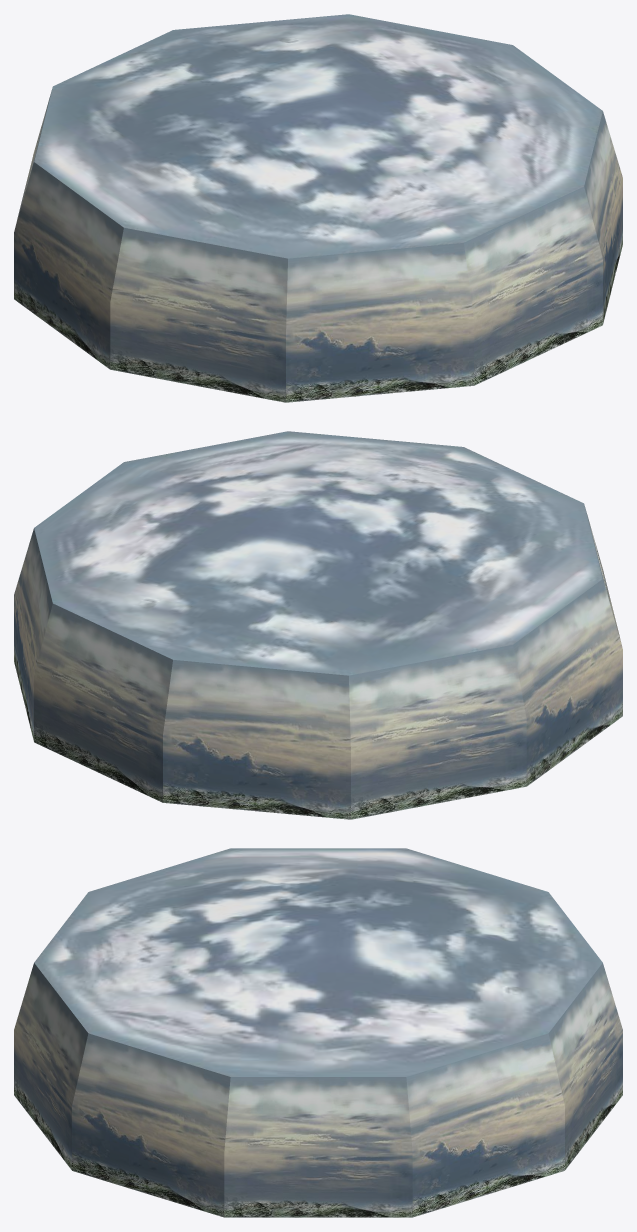
The picture shows the model from 3 angles, top to bottom: view 1: azimuth 30°, elevation 25°; view 2: azimuth 150°, elevation 25°; view 3: azimuth 270°, elevation 25°; orthographic projection. The views are drawn at different scales.
Parts seen in each view (by area): view 1: xu; view 2: xu; view 3: xu.
Boxes of the visible parts, x1,y1,x2,y2 form: xu: (14, 14, 622, 402); xu: (14, 431, 622, 819); xu: (14, 848, 622, 1217).
Bounding box in the file's own units: 7098 × 2140 × 7464.
